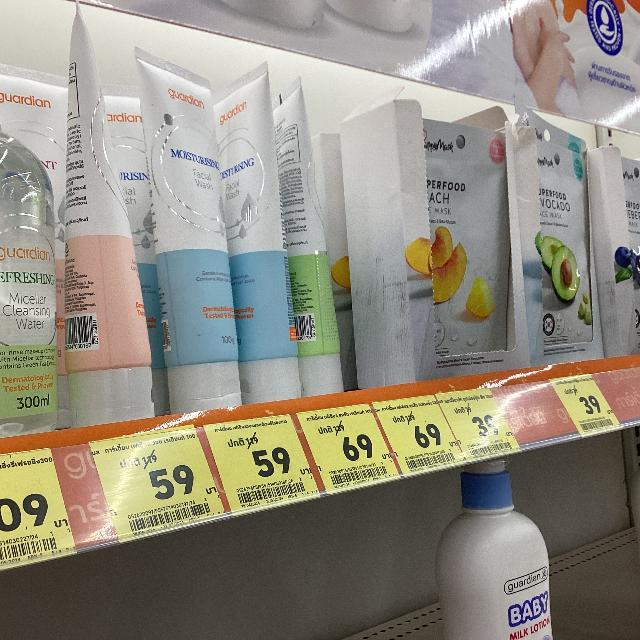Squeeze Tube: (48, 23, 360, 450)
